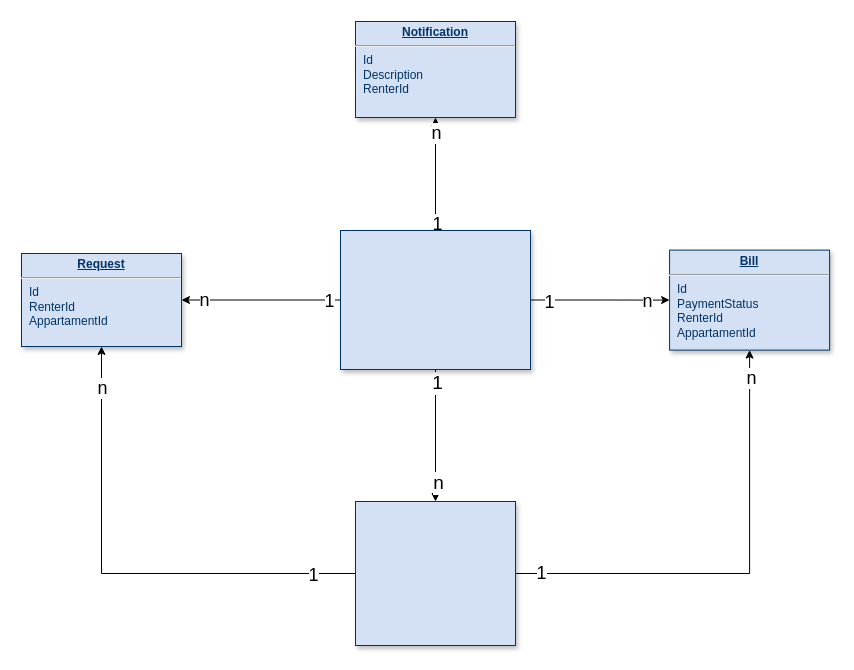
Image size: 854x670. Some labels were removed from this diagram. The shapes that lost their labels are listed below. From the top down, each one's centre as x and y in pixels, then its label:
[436,301]: User Id Email FirstName LastName Password Role ManagerId
[436,574]: Appartament Id MainPhoto Name Description RentEndDate Price RenterId
